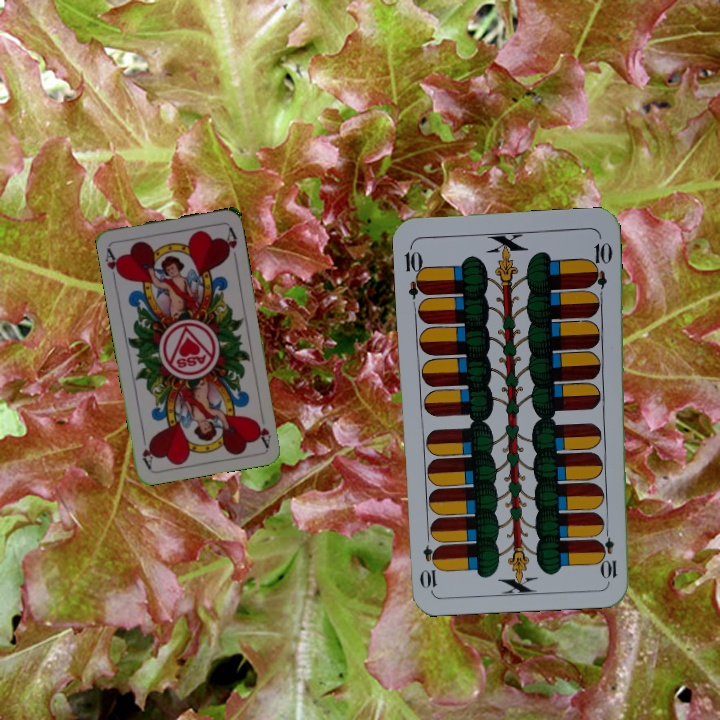E10: (401, 241, 429, 300), (599, 522, 620, 581)
HA: (101, 244, 125, 284), (252, 408, 273, 449)
